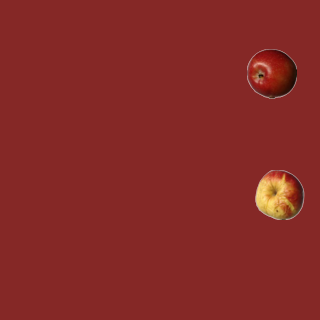Apple Braeburn: (246, 48, 296, 98)
Apple Red Yellow 1: (254, 169, 304, 219)
